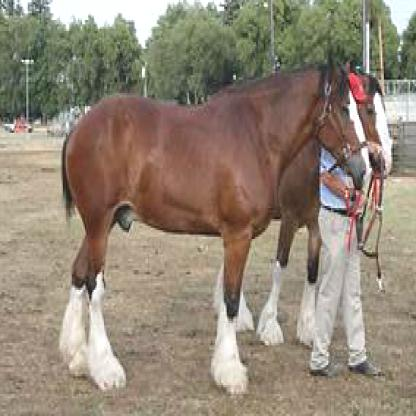horse: (62, 46, 370, 394), (358, 64, 392, 182)
